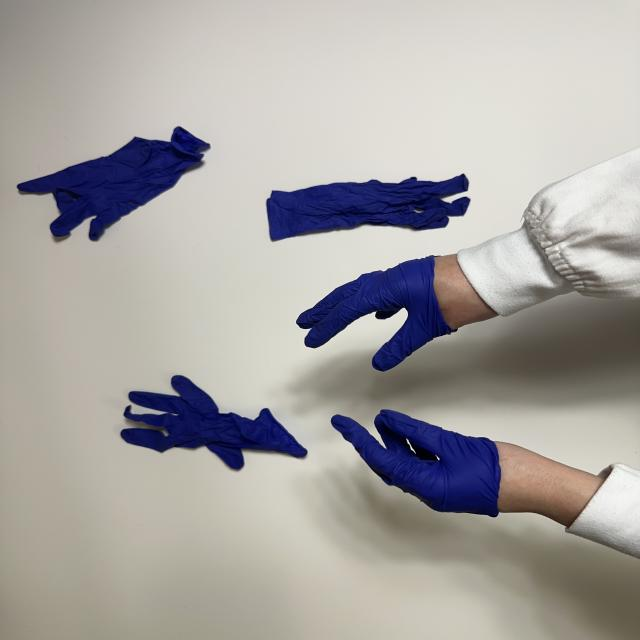glove_not_fitted: (330, 408, 612, 528), (296, 255, 498, 371)
